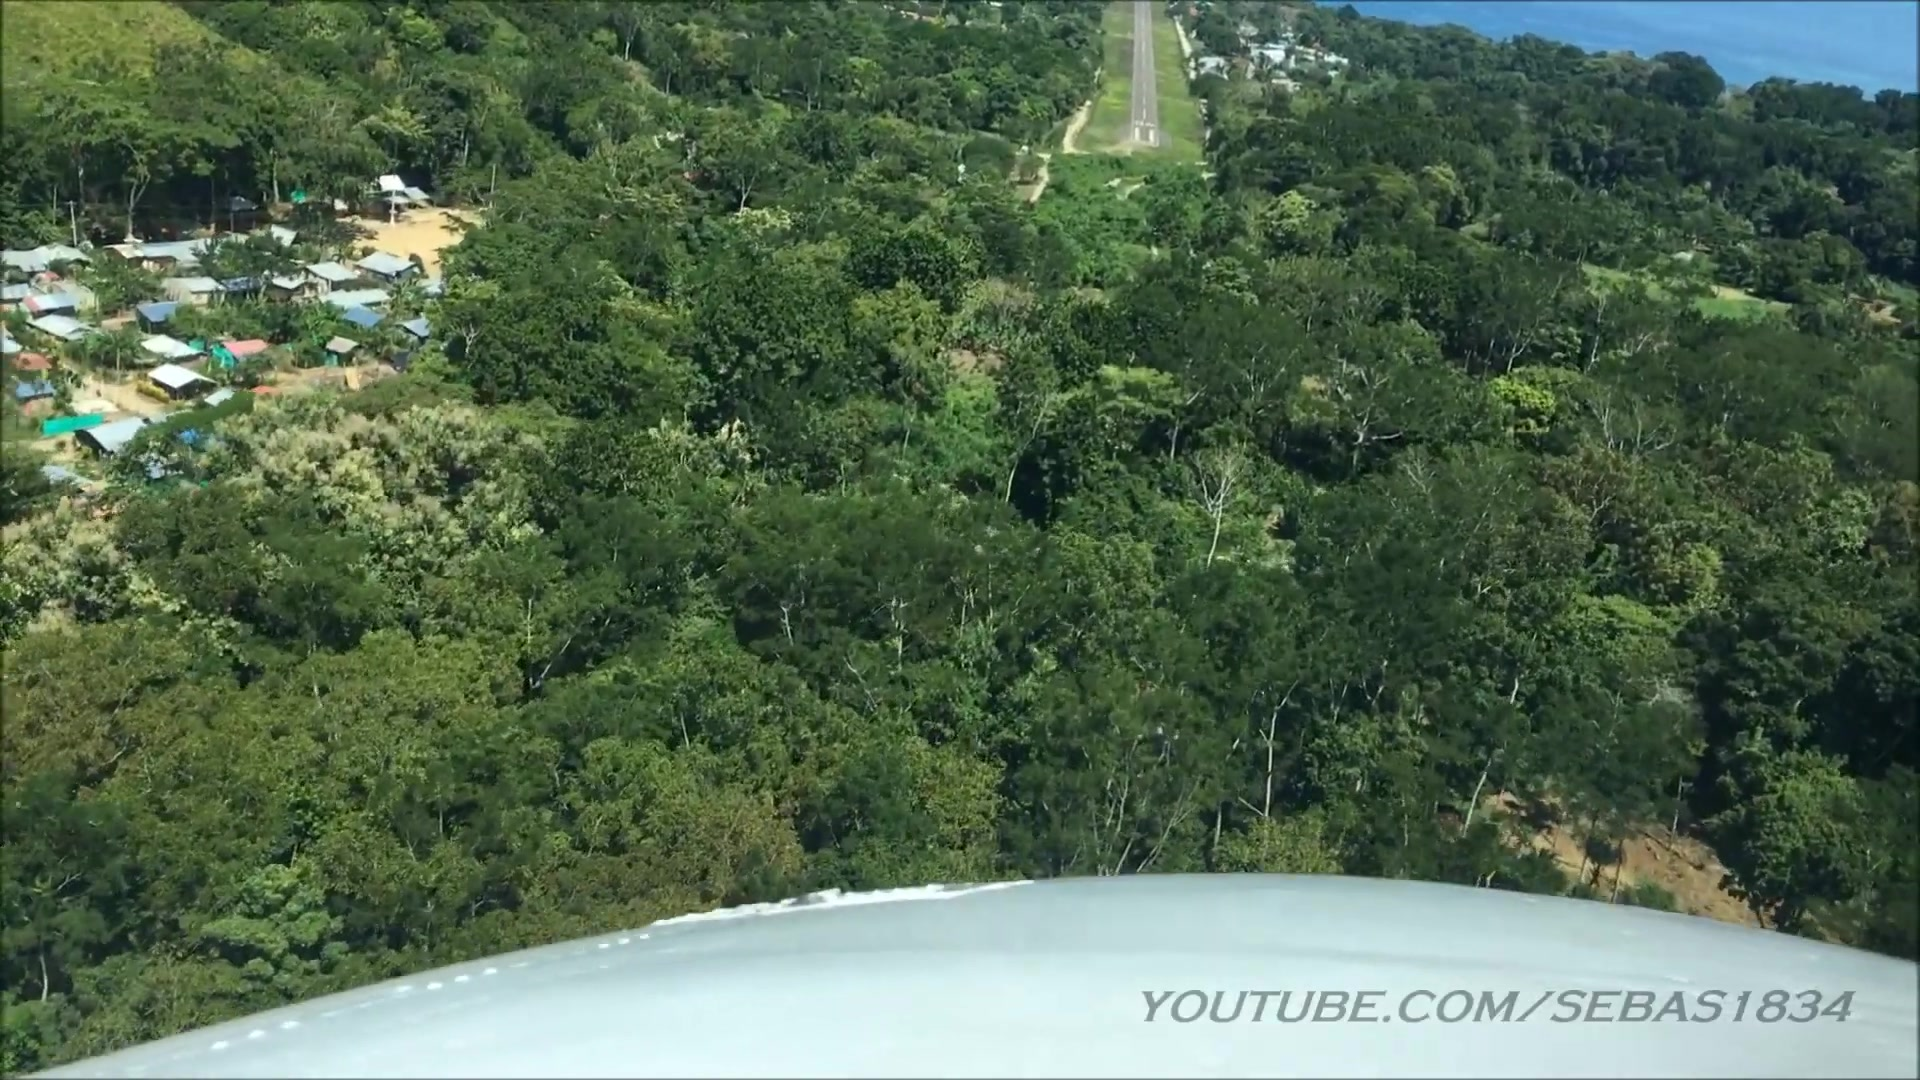runway: (1130, 1, 1162, 148)
